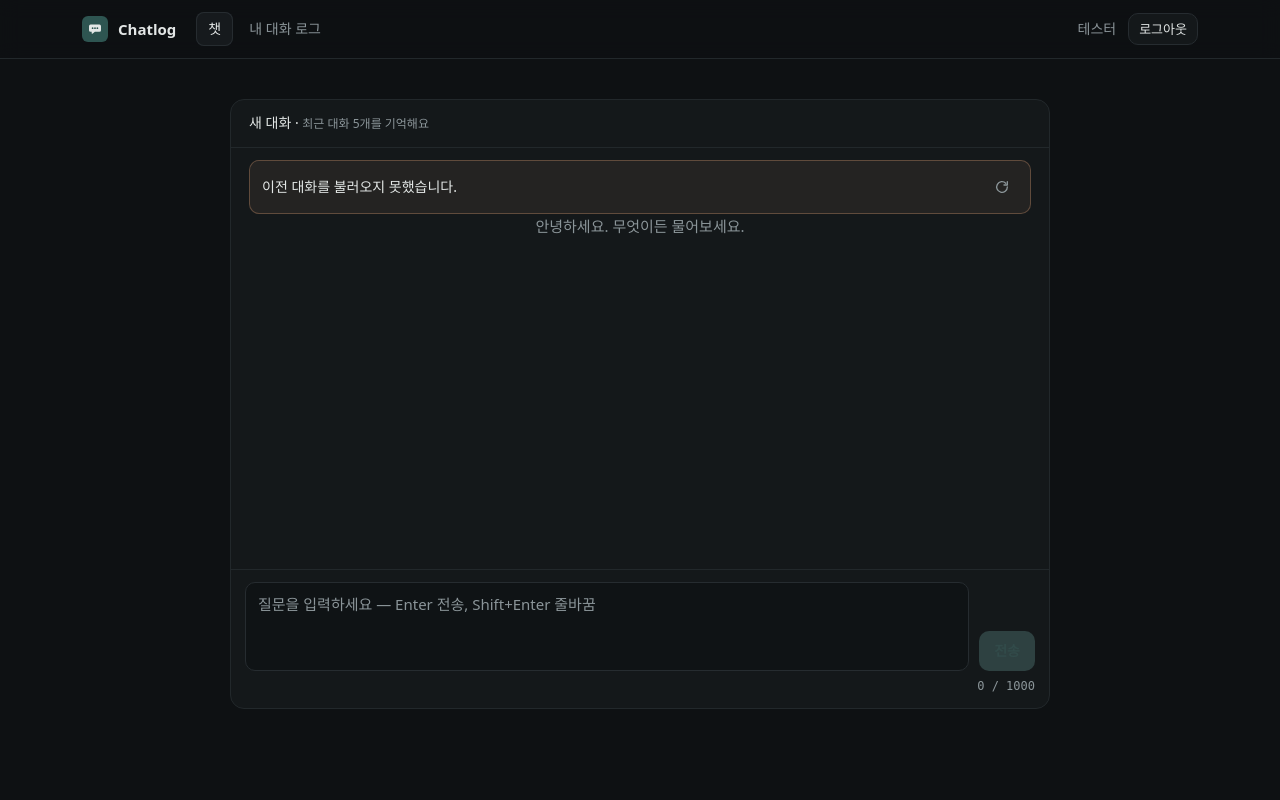
Test: 헤더 — 로그아웃 › 서버에 refresh token 을 보내고 토큰을 지운 뒤 로그인 화면으로 간다
The image size is (1280, 800).
Click the button "로그아웃" at (1163, 29), box x1=1128 y1=13 x2=1198 y2=45
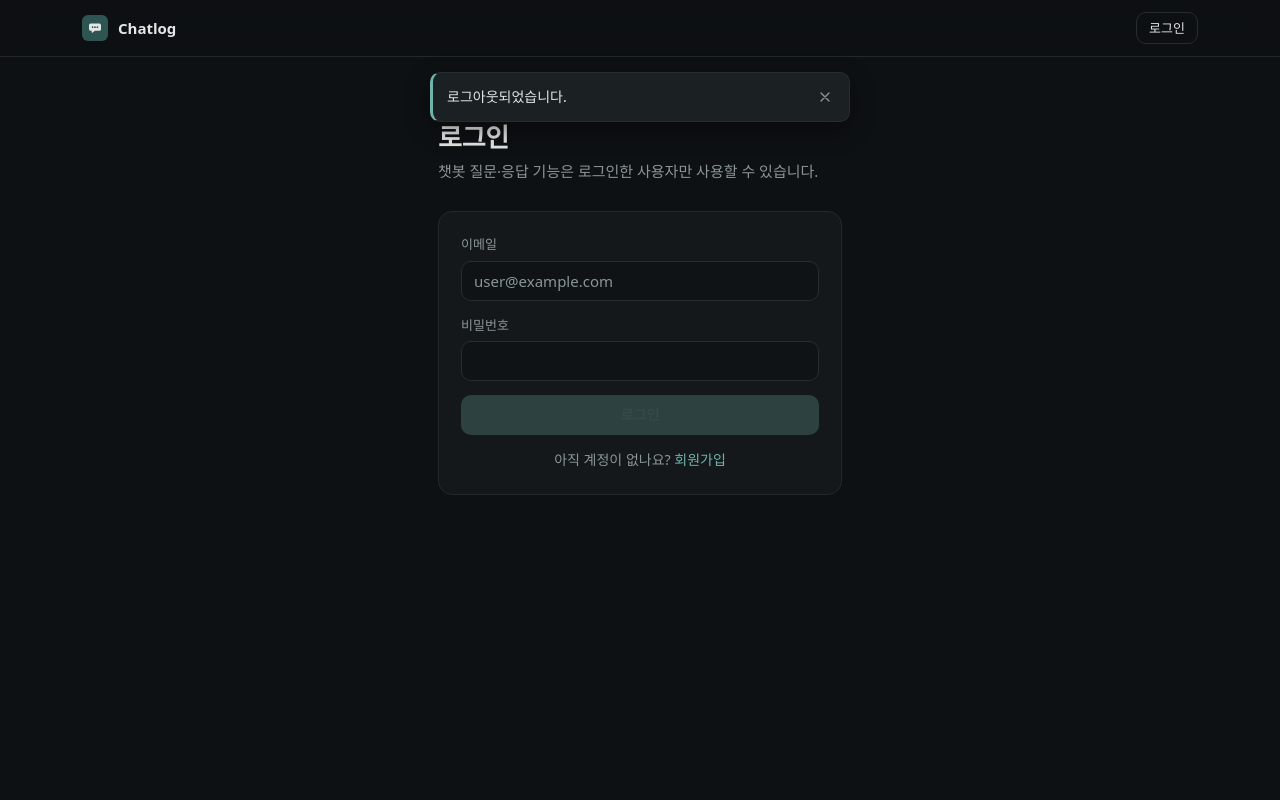
Expected: the heading "로그인" is shown, x1=438 y1=119 x2=509 y2=155
